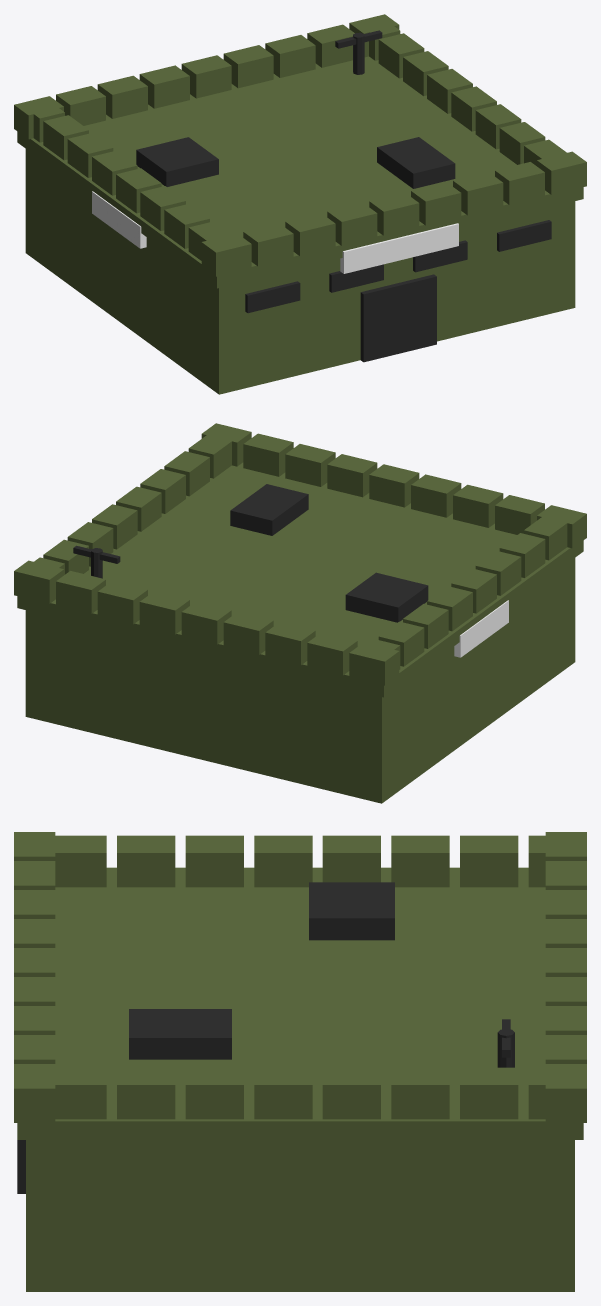
The picture shows the model from 3 angles, top to bottom: view 1: azimuth 30°, elevation 25°; view 2: azimuth 150°, elevation 25°; view 3: azimuth 270°, elevation 25°; orthographic projection. The views are drawn at different scales.
Visible parts, largest first — view 1: ua-hq; view 2: ua-hq; view 3: ua-hq.
Boxes of the visible parts, box(x1,y1,x2,y2) form: ua-hq: box(14, 14, 586, 394); ua-hq: box(14, 423, 586, 803); ua-hq: box(14, 832, 586, 1291).
Size of the model in its own units: 3.54 by 1.46 by 3.34.
